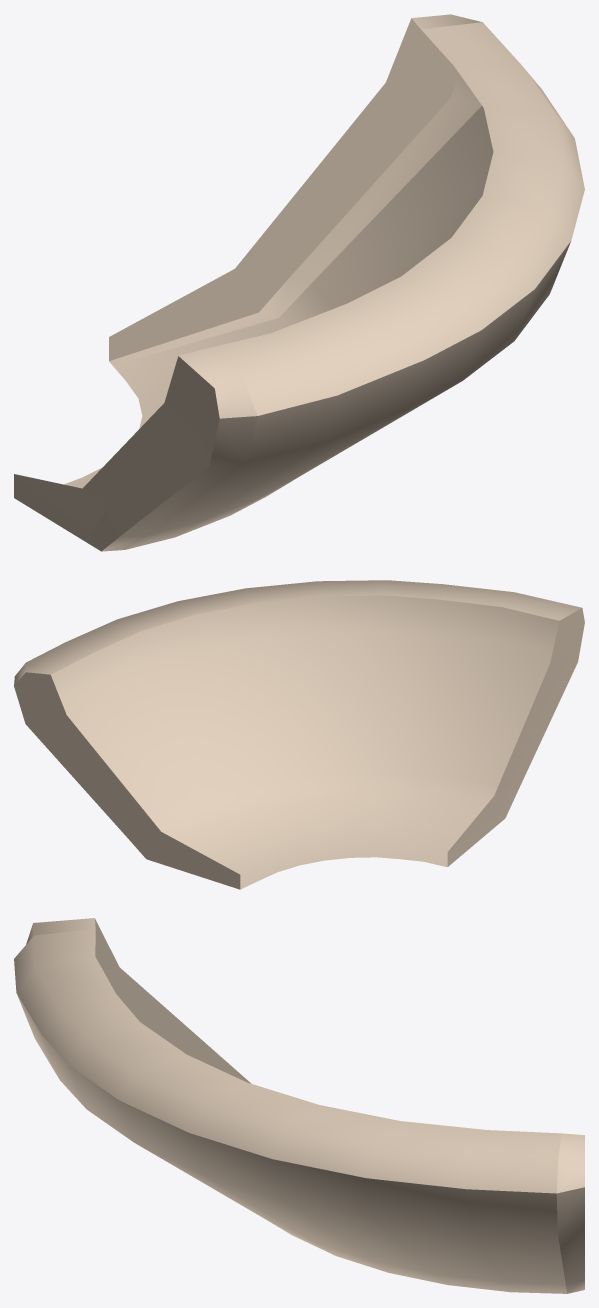
Rendered from Module_Ss_wall_1X_G1.FBX.
3 views of the same model, one above another, from view 1: azimuth 30°, elevation 25°; view 2: azimuth 150°, elevation 25°; view 3: azimuth 270°, elevation 25° (orthographic). The views are drawn at different scales.
Visible parts, largest first — view 1: Module_Ss_wall_1X_G1; view 2: Module_Ss_wall_1X_G1; view 3: Module_Ss_wall_1X_G1.
Boxes of the visible parts, x1,y1,x2,y2 form: Module_Ss_wall_1X_G1: (14, 14, 584, 551); Module_Ss_wall_1X_G1: (14, 580, 584, 889); Module_Ss_wall_1X_G1: (14, 918, 584, 1293).
Bounding box in the file's own units: 32.43 × 14.15 × 31.76.
